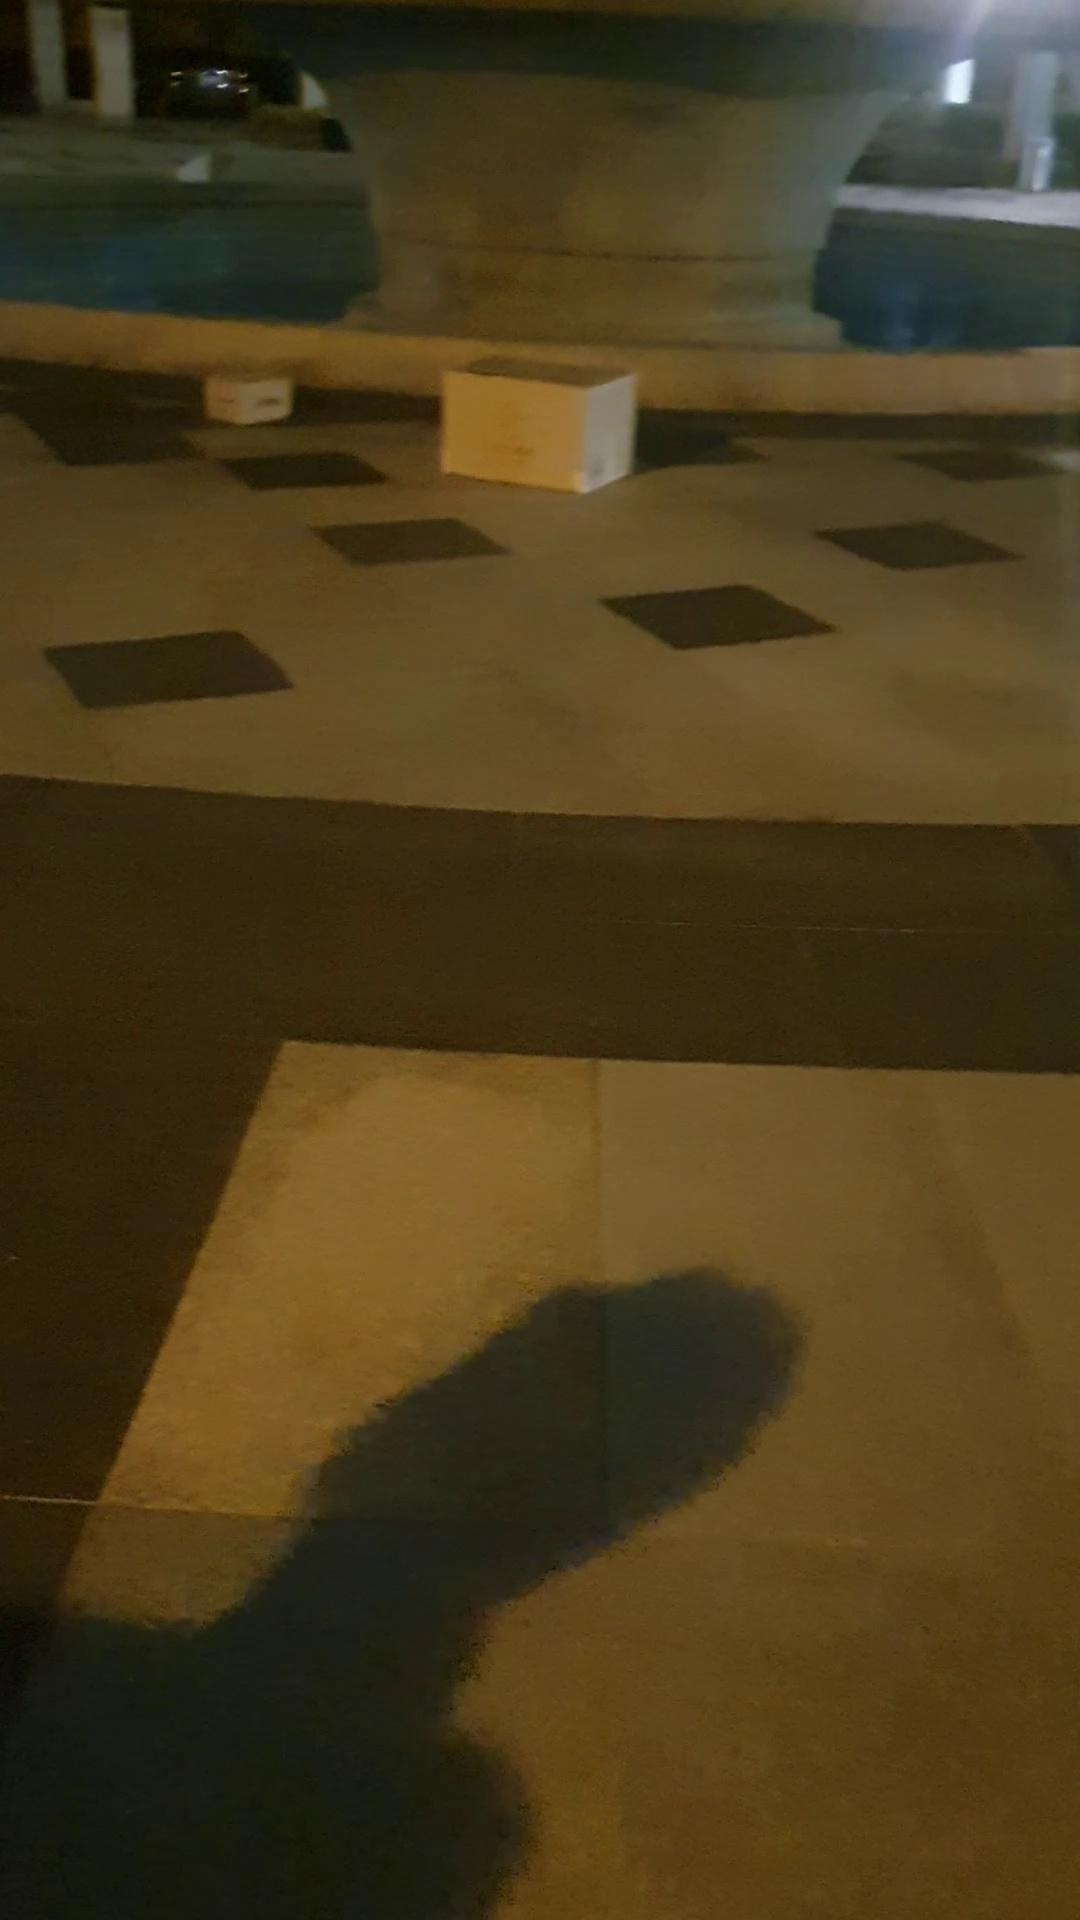Box: (431, 343, 650, 505), (198, 357, 291, 430)
